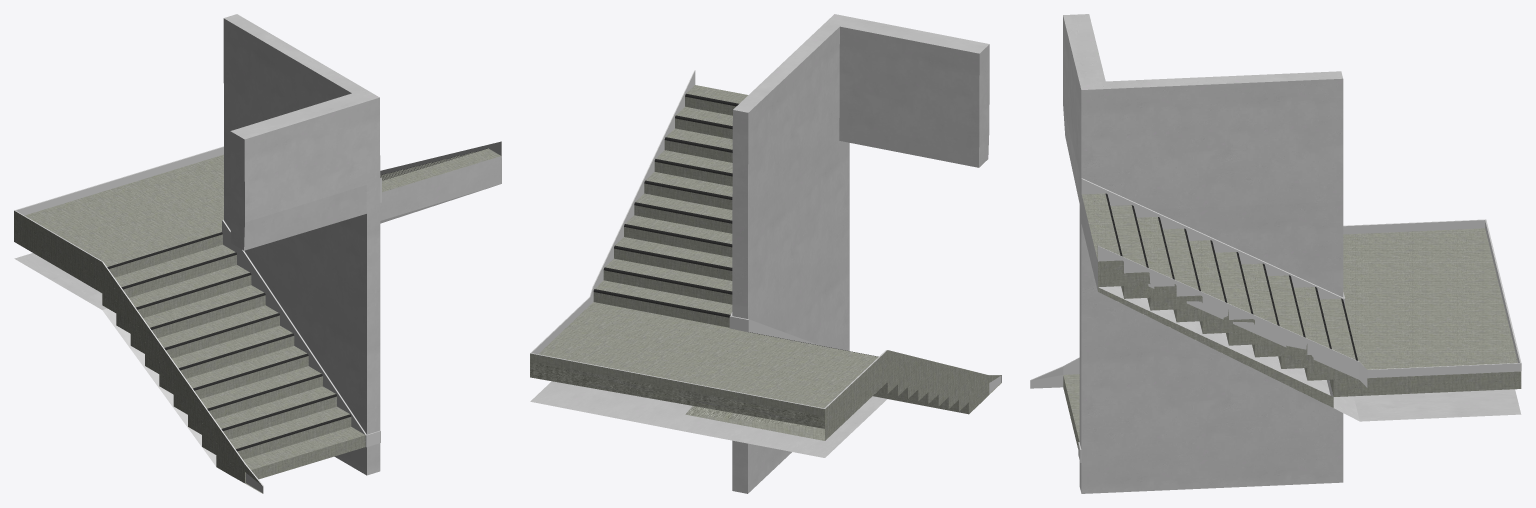
Rendered from 3_to_2_stair_1_sized.glb.
The picture shows the model from 3 angles, left to right: view 1: azimuth 30°, elevation 25°; view 2: azimuth 150°, elevation 25°; view 3: azimuth 270°, elevation 25°; orthographic projection. The views are drawn at different scales.
Visible parts, largest first — view 1: Cube_109; view 2: Cube_109; view 3: Cube_109.
Boxes of the visible parts, box(x1,y1,x2,y2) form: Cube_109: box(14, 14, 501, 493); Cube_109: box(530, 14, 1001, 493); Cube_109: box(1030, 14, 1521, 493).
Bounding box in the file's own units: 4.26 × 4.94 × 5.45.
4 materials, 2 textured.
